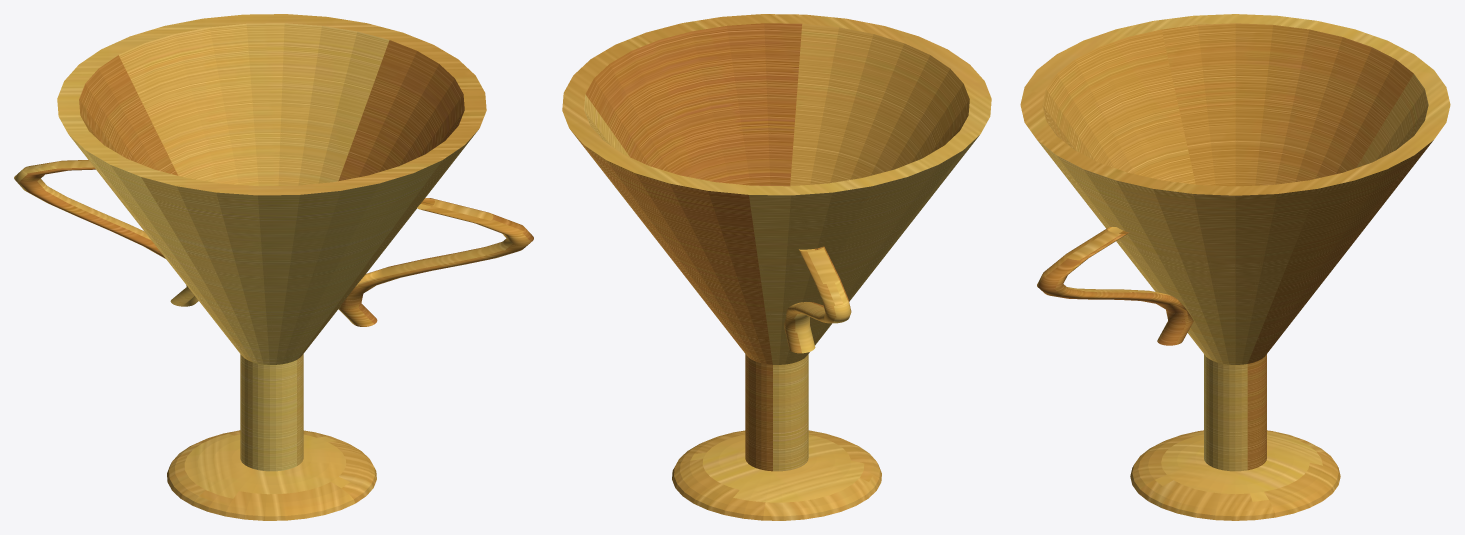
File: Trofeo2.obj
The picture shows the model from 3 angles, left to right: view 1: azimuth 30°, elevation 25°; view 2: azimuth 150°, elevation 25°; view 3: azimuth 270°, elevation 25°; orthographic projection.
Visible parts, largest first — view 1: Esfera.001_Esfera.002; view 2: Esfera.001_Esfera.002; view 3: Esfera.001_Esfera.002.
Part boxes in pixels (<box>): Esfera.001_Esfera.002: <box>14,14,533,520</box>; Esfera.001_Esfera.002: <box>562,14,991,520</box>; Esfera.001_Esfera.002: <box>1020,14,1450,520</box>.
Bounding box in the file's own units: 1.9 × 1.81 × 1.9.
Materials: 1 (1 with a texture image).
